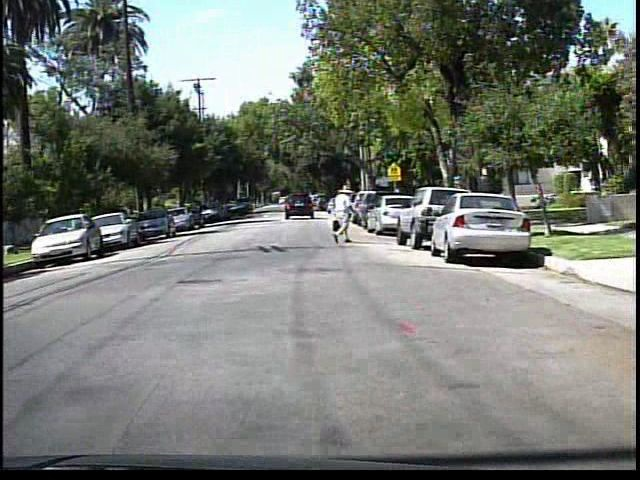person: (328, 184, 360, 245)
